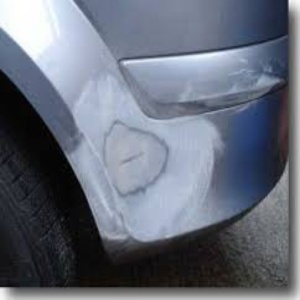bumper_scratch: (72, 63, 294, 256)
